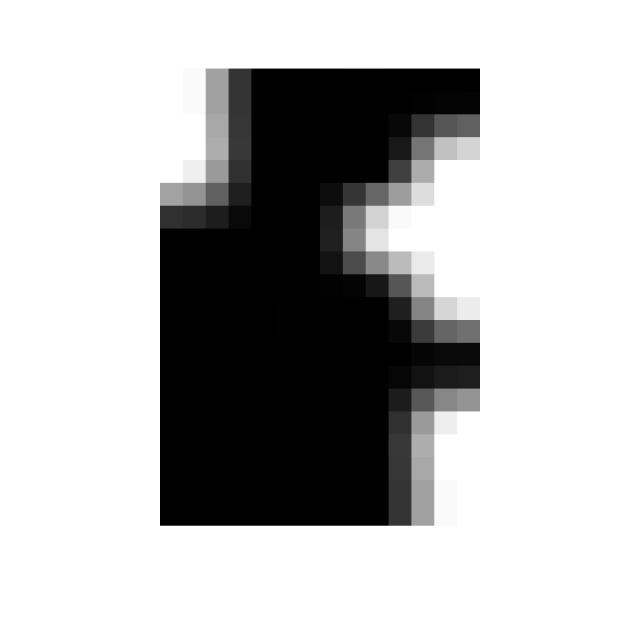0 -zero-: (133, 48, 514, 557)
